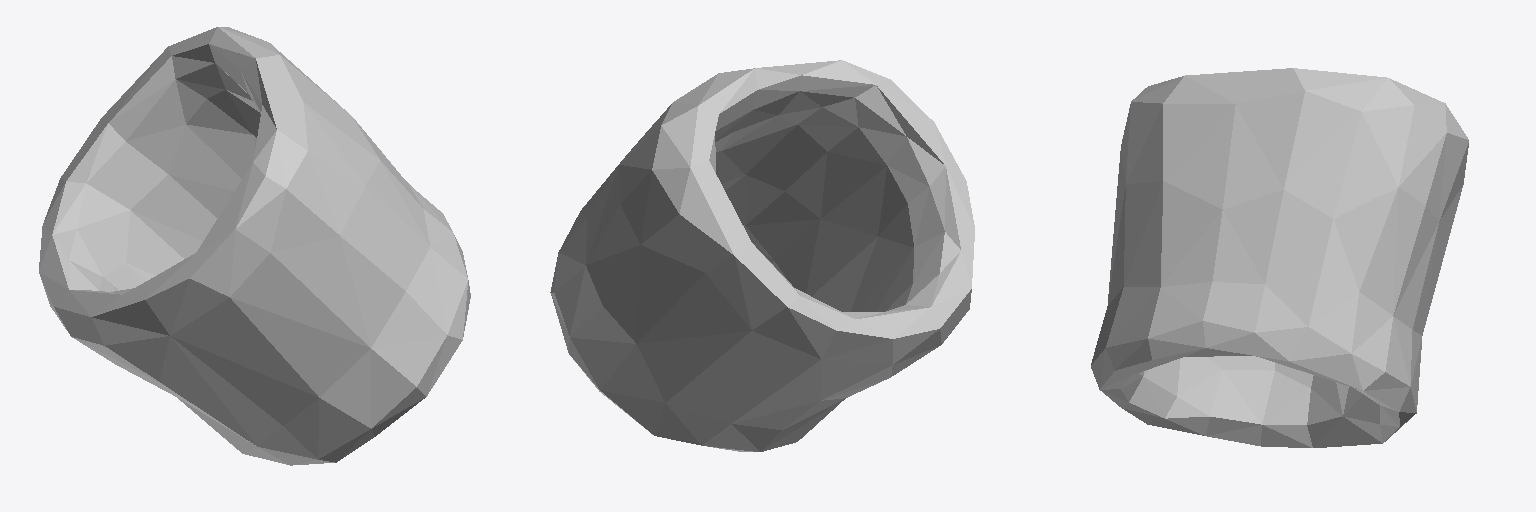
Rendered from Wrist band.OBJ.
The picture shows the model from 3 angles: view 1: azimuth 30°, elevation 25°; view 2: azimuth 150°, elevation 25°; view 3: azimuth 270°, elevation 25°; orthographic projection.
Parts seen in each view (by area): view 1: Group52674; view 2: Group52674; view 3: Group52674.
Boxes of the visible parts, x1=… form: Group52674: x1=39, y1=27, x2=470, y2=465; Group52674: x1=550, y1=60, x2=974, y2=451; Group52674: x1=1091, y1=68, x2=1468, y2=447.
Size of the model in its own units: 14.42 by 14.05 by 12.63.